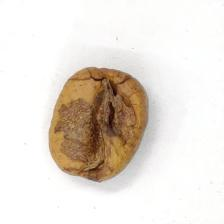NG: (60, 74, 136, 171)
